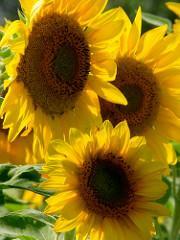sunflower: (0, 0, 128, 158), (82, 6, 180, 164), (48, 120, 171, 236)
